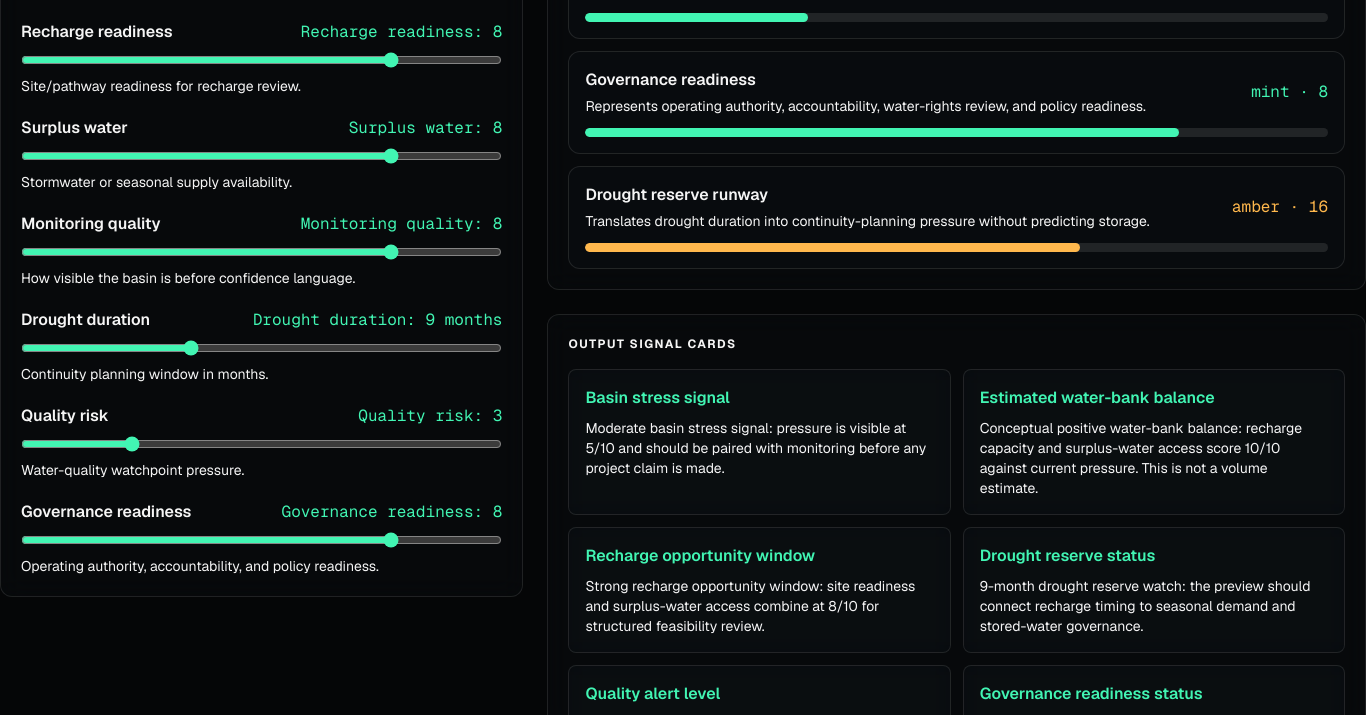
Scenario: WaterBankingPreview › updates drought reserve and action pathway language when drought duration changes
The width and height of the screenshot is (1366, 715).
(page scrolled)
Expected: the text "9-month drought reserve watch" is shown, top-left (980, 577), bottom-right (1311, 635)
Set the slider labelled "Drought duration" to "20" at (413, 348), box top-left (21, 340), bottom-right (502, 356)
(page scrolled)
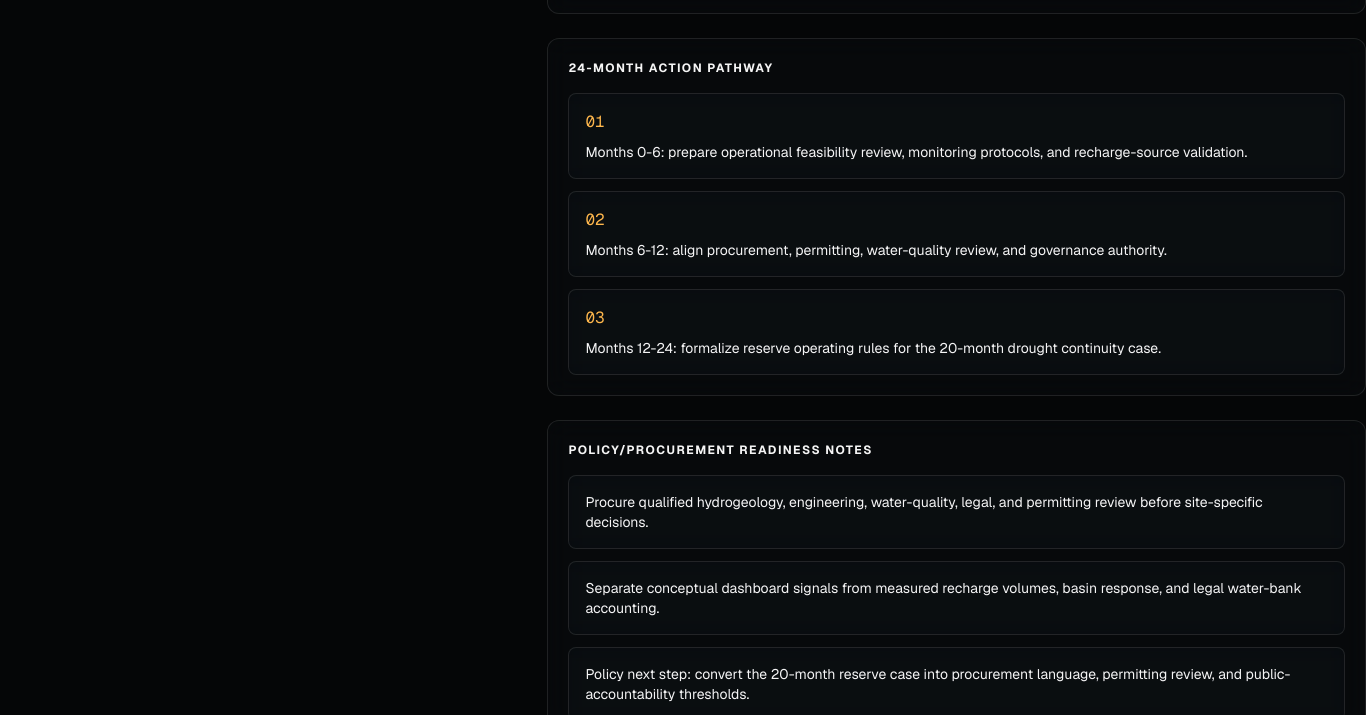
Now the text "20-month drought continuity case" is shown, box top-left (585, 339), bottom-right (1161, 357)
